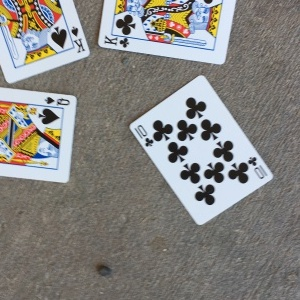card: (130, 76, 272, 224)
